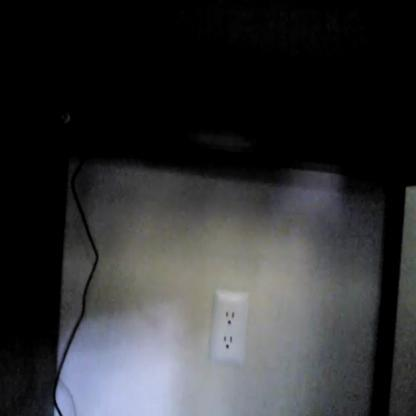OUTLET: (209, 288, 246, 362)
